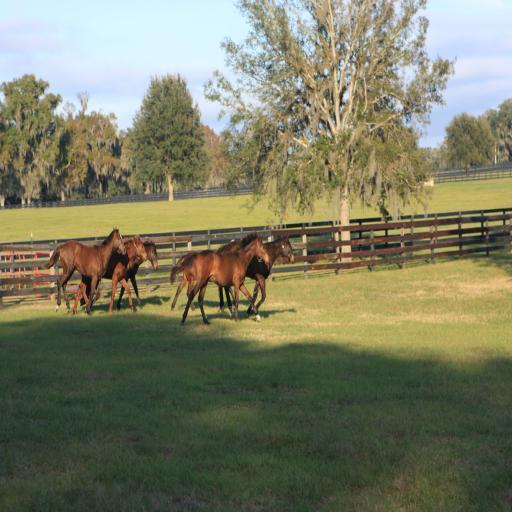horse: (170, 232, 271, 328), (43, 230, 126, 312), (218, 233, 296, 320), (71, 232, 149, 317), (80, 240, 158, 310)
